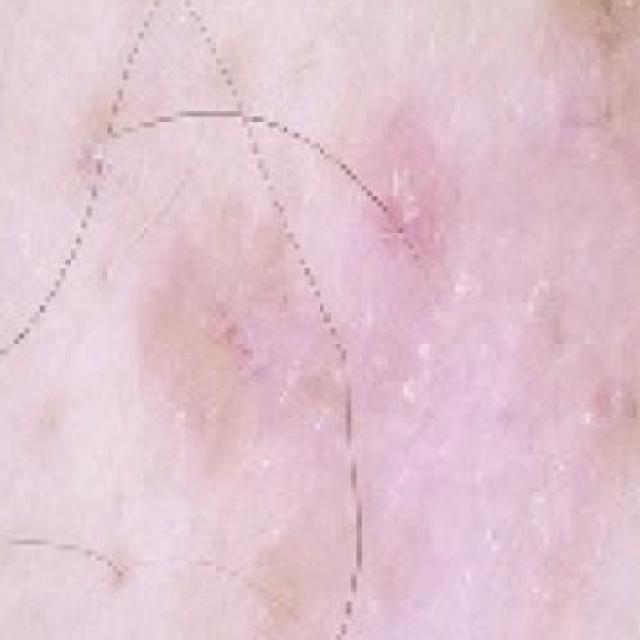BCC: (163, 44, 640, 639)
